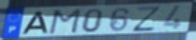0: (81, 8, 104, 33)
4: (162, 4, 185, 32)
6: (109, 7, 131, 33)
A: (21, 11, 50, 35)
M: (47, 8, 83, 35)
Z: (131, 5, 163, 33)
